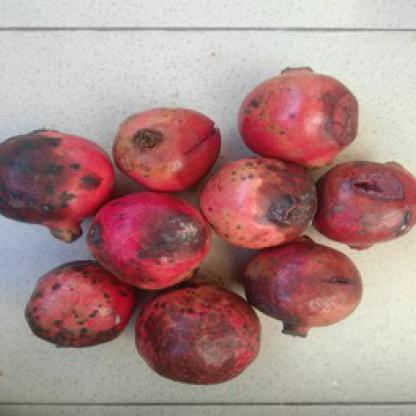pomegranate_rotten: (0, 125, 114, 244), (132, 281, 263, 384), (237, 62, 361, 169), (238, 233, 362, 338), (83, 192, 213, 292), (196, 154, 320, 250), (22, 256, 138, 350), (111, 106, 221, 196), (313, 156, 415, 251)
